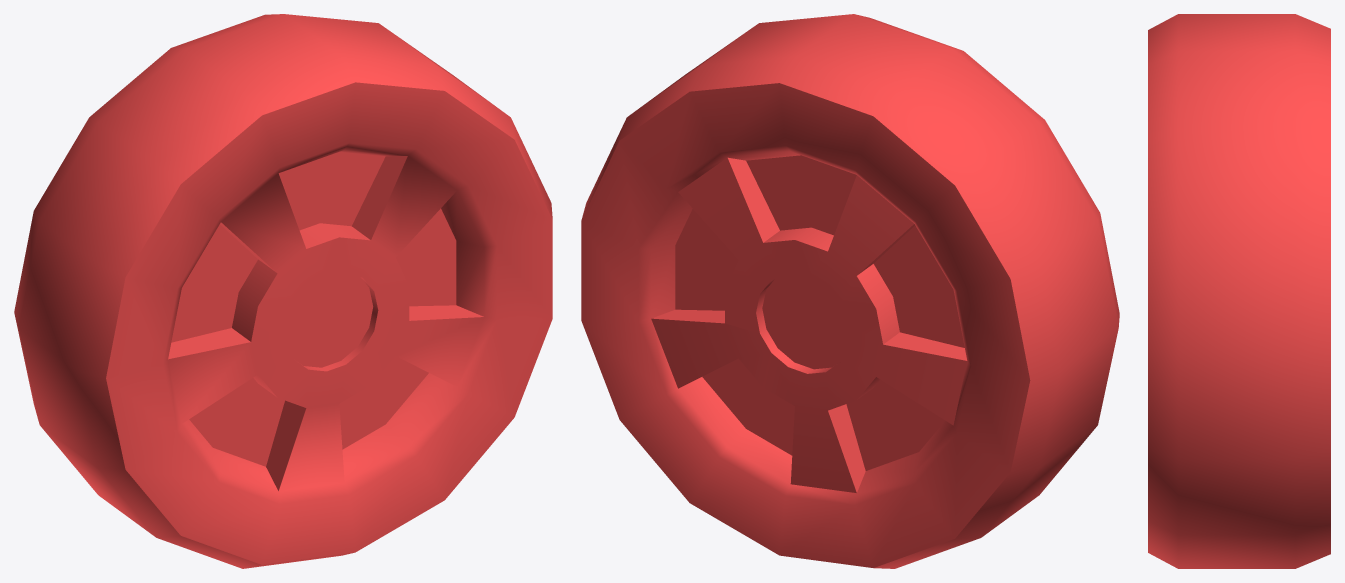
The model's file is Dodge_Wheel.FBX.
3 views of the same model, side by side, from view 1: azimuth 30°, elevation 25°; view 2: azimuth 150°, elevation 25°; view 3: azimuth 270°, elevation 25° (orthographic).
Parts seen in each view (by area): view 1: DodgeWheel; view 2: DodgeWheel; view 3: DodgeWheel.
Boxes of the visible parts, left/top/right/bottom form: DodgeWheel: left=14, top=14, right=552, bottom=568; DodgeWheel: left=581, top=14, right=1119, bottom=568; DodgeWheel: left=1148, top=14, right=1330, bottom=568.
Size of the model in its own units: 242 by 244 by 80.29.
